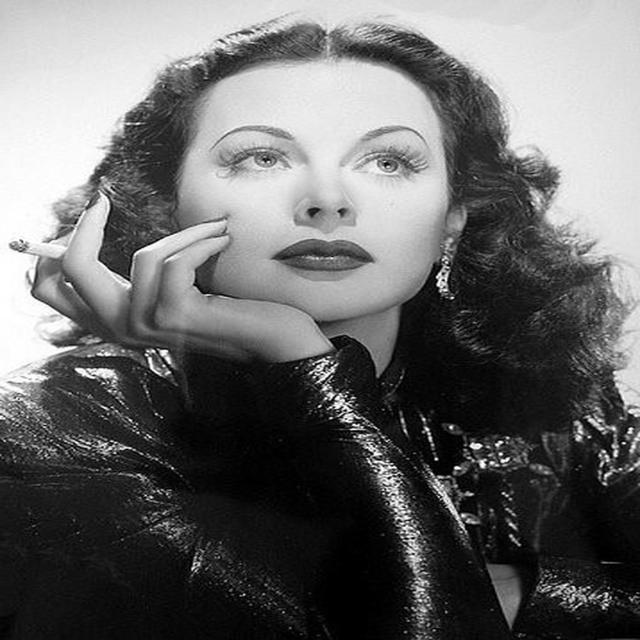smoking: (6, 42, 536, 371)
